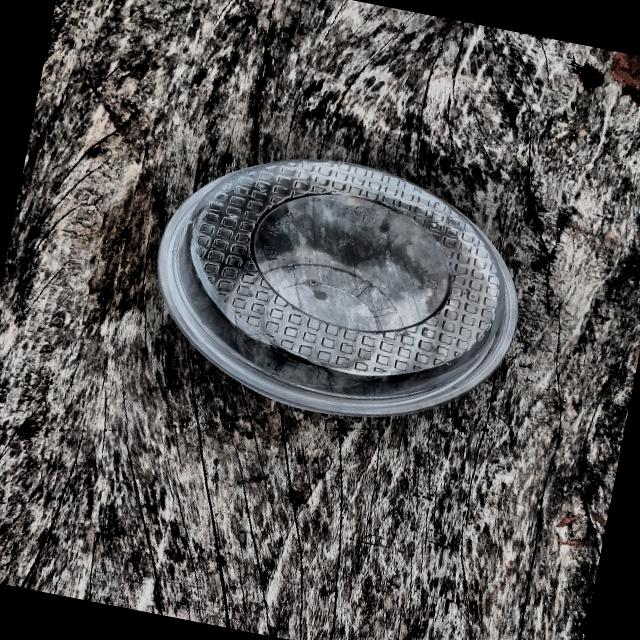plastic container: (119, 114, 552, 459)
